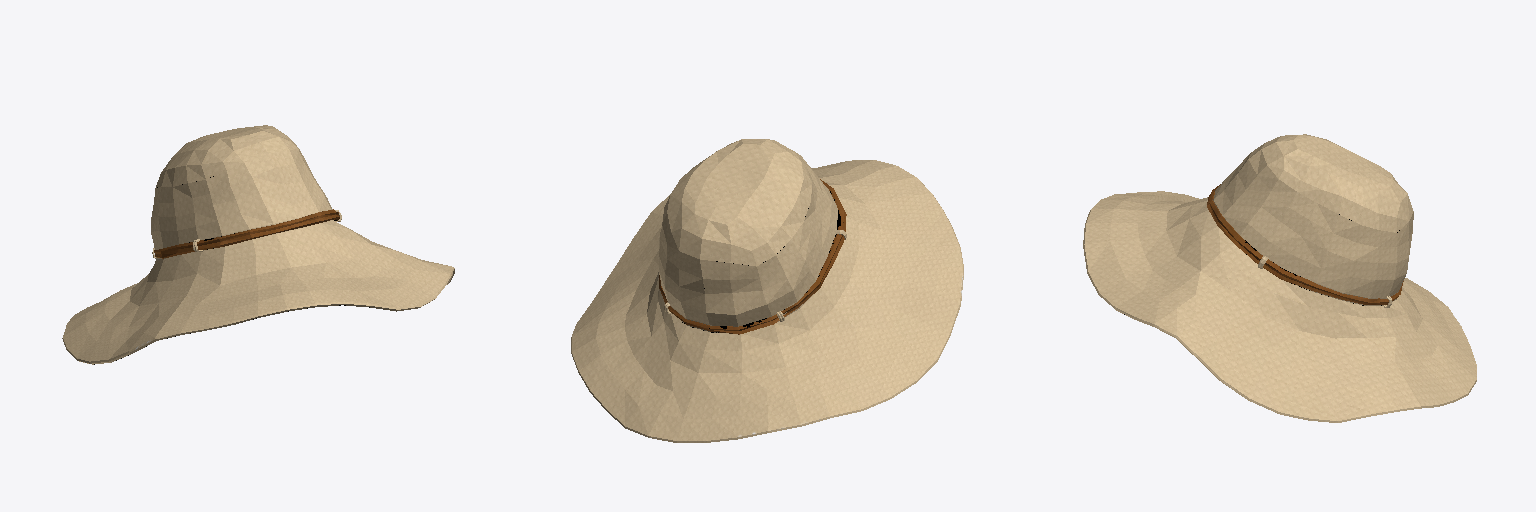
3 views of the same model, side by side, from view 1: azimuth 30°, elevation 25°; view 2: azimuth 150°, elevation 25°; view 3: azimuth 270°, elevation 25° (orthographic).
Visible parts, largest first — view 1: hat_1:Hats; view 2: hat_1:Hats; view 3: hat_1:Hats.
Boxes of the visible parts, <box> form: hat_1:Hats: <box>62,125,454,364</box>; hat_1:Hats: <box>571,139,963,442</box>; hat_1:Hats: <box>1083,134,1476,422</box>.
Bounding box in the file's own units: 39.65 × 26.2 × 40.24.
1 materials, 1 textured.